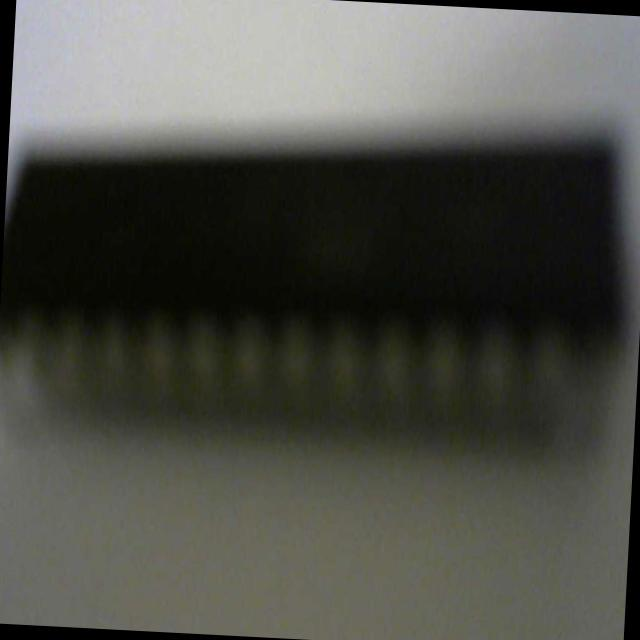atmega: (0, 97, 638, 464)
